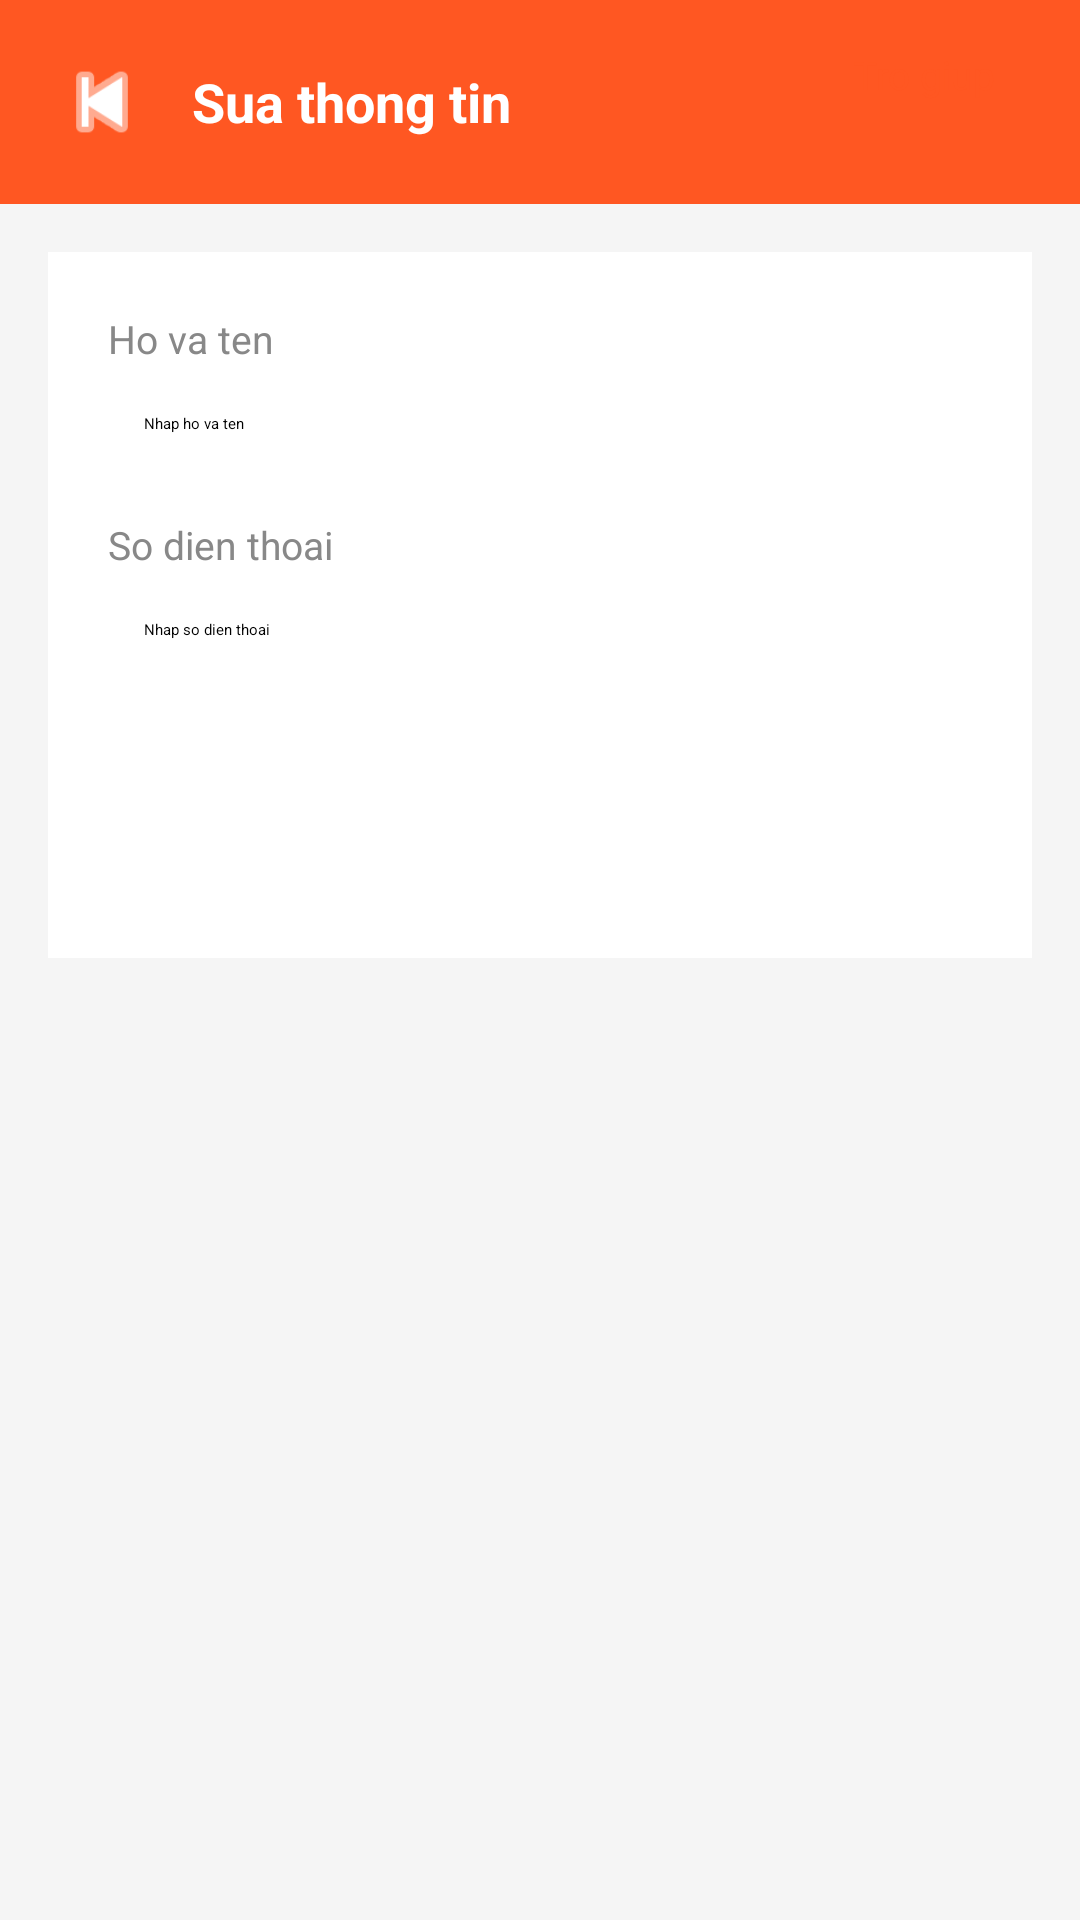

Where to tap for icons on this 1080px×1920px app screen, as [x,y]:
previous: [102,102]
